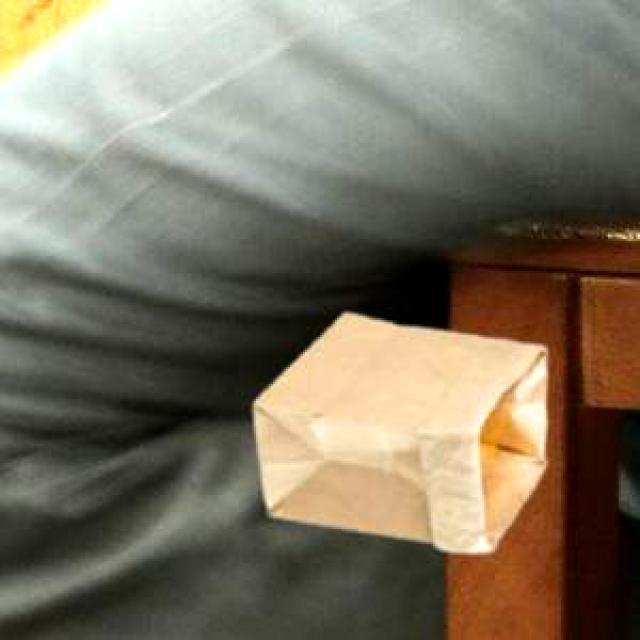Paper_Bag: (251, 310, 544, 550)
